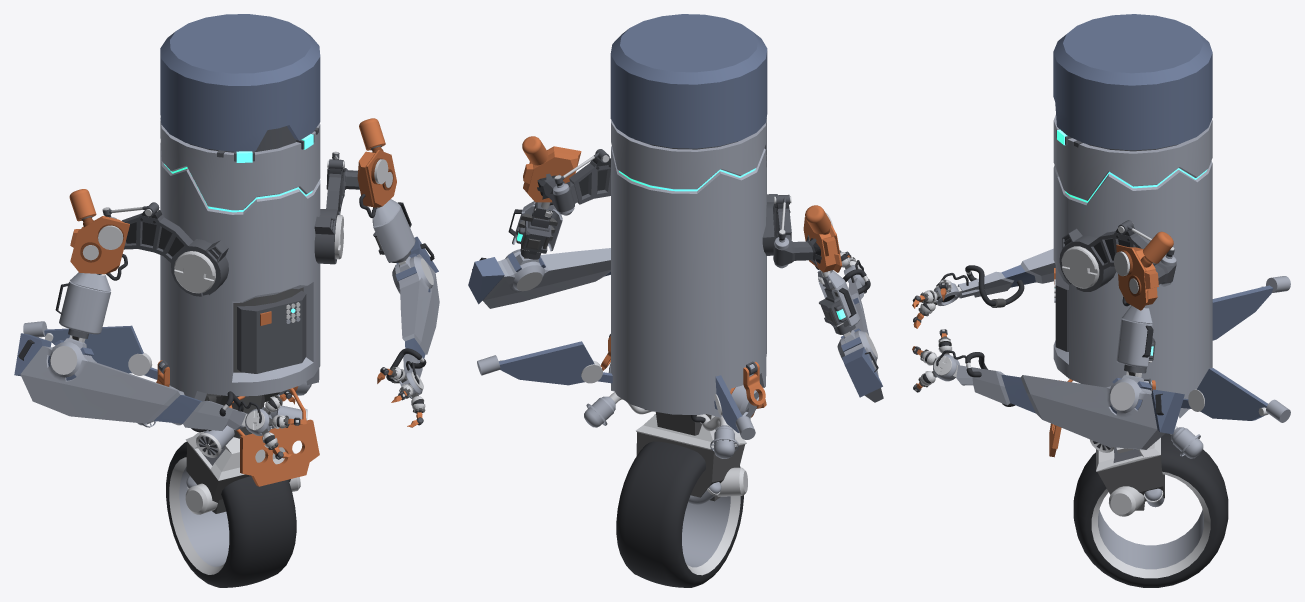
The model's file is robo2.glb.
3 views of the same model, side by side, from view 1: azimuth 30°, elevation 25°; view 2: azimuth 150°, elevation 25°; view 3: azimuth 270°, elevation 25° (orthographic). The views are drawn at different scales.
Parts seen in each view (by area): view 1: polySurface1797, polySurface1803, polySurface1860, polySurface1798, polySurface1896, pCube26, polySurface1837, polySurface1796, polySurface1835, polySurface1760, polySurface1670, polySurface1863 (+7 smaller); view 2: polySurface1797, polySurface1803, polySurface1798, polySurface1860, polySurface1896, polySurface1760, polySurface1664, polySurface1835, polySurface1836, polySurface1837, polySurface1878, polySurface1758 (+6 smaller); view 3: polySurface1797, polySurface1803, polySurface1860, polySurface1798, polySurface1760, polySurface1896, polySurface1664, polySurface1670, polySurface1837, polySurface1835, polySurface1863, pCube26 (+5 smaller).
Boxes of the visible parts, bbox=[...] form: polySurface1797: bbox=[160, 118, 320, 401]; polySurface1803: bbox=[160, 14, 320, 151]; polySurface1860: bbox=[14, 236, 439, 430]; polySurface1798: bbox=[166, 441, 296, 587]; polySurface1896: bbox=[122, 168, 359, 296]; pCube26: bbox=[237, 290, 306, 373]; polySurface1837: bbox=[59, 199, 415, 334]; polySurface1796: bbox=[240, 419, 319, 486]; polySurface1835: bbox=[70, 150, 396, 274]; polySurface1760: bbox=[185, 428, 294, 502]; polySurface1670: bbox=[44, 325, 143, 373]; polySurface1863: bbox=[174, 215, 343, 293]; polySurface1797: bbox=[611, 117, 766, 417]; polySurface1803: bbox=[610, 14, 767, 148]; polySurface1798: bbox=[616, 441, 743, 587]; polySurface1860: bbox=[468, 248, 883, 402]; polySurface1896: bbox=[537, 160, 821, 266]; polySurface1760: bbox=[635, 414, 746, 497]; polySurface1664: bbox=[499, 341, 594, 385]; polySurface1835: bbox=[523, 146, 842, 272]; polySurface1836: bbox=[516, 202, 855, 334]; polySurface1837: bbox=[512, 201, 860, 326]; polySurface1878: bbox=[522, 136, 831, 234]; polySurface1758: bbox=[655, 412, 711, 435]; polySurface1797: bbox=[1053, 115, 1212, 418]; polySurface1803: bbox=[1053, 14, 1212, 150]; polySurface1860: bbox=[956, 248, 1184, 449]; polySurface1798: bbox=[1073, 433, 1228, 587]; polySurface1760: bbox=[1096, 437, 1164, 501]; polySurface1896: bbox=[1059, 228, 1176, 291]; polySurface1664: bbox=[1197, 368, 1267, 420]; polySurface1670: bbox=[1212, 285, 1273, 340]; polySurface1837: bbox=[1116, 305, 1152, 367]; polySurface1835: bbox=[1116, 244, 1158, 310]; polySurface1863: bbox=[1061, 246, 1099, 288]; pCube26: bbox=[1055, 265, 1068, 351].
Bounding box in the file's own units: 6.55 × 7.98 × 5.12.
